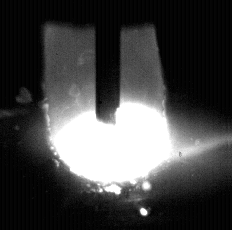arame: (96, 0, 122, 125)
poca: (49, 0, 173, 230)
